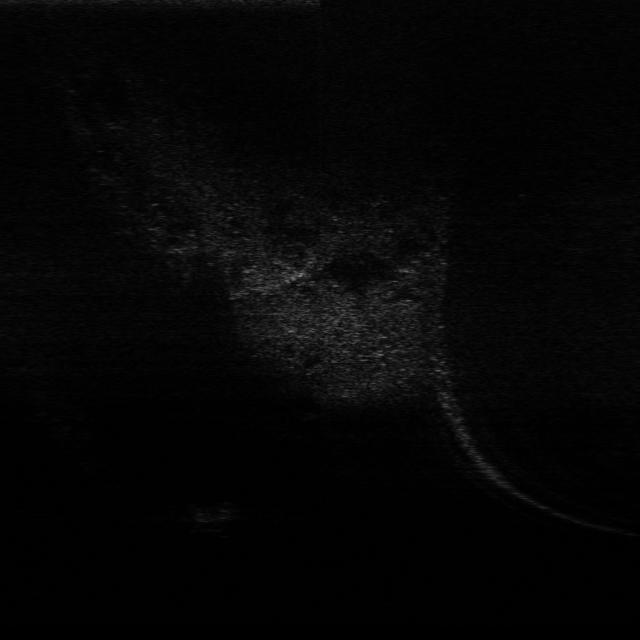cube: (183, 497, 246, 526)
